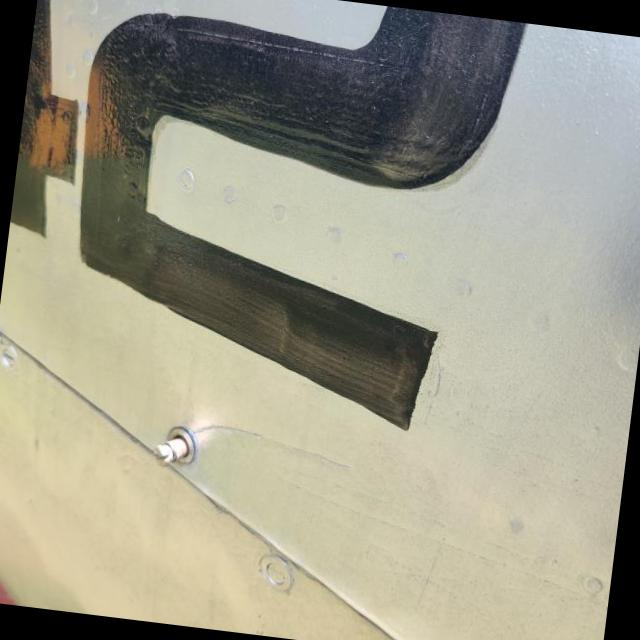Scratch: (194, 422, 352, 469)
